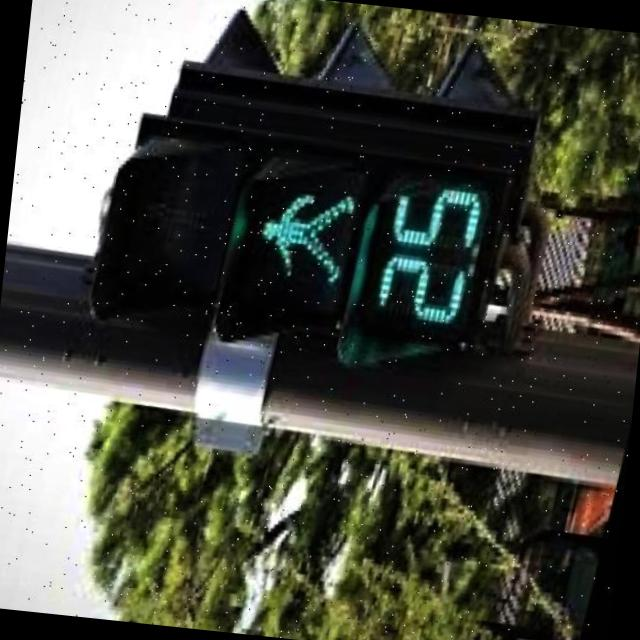green_light: (236, 139, 499, 355)
